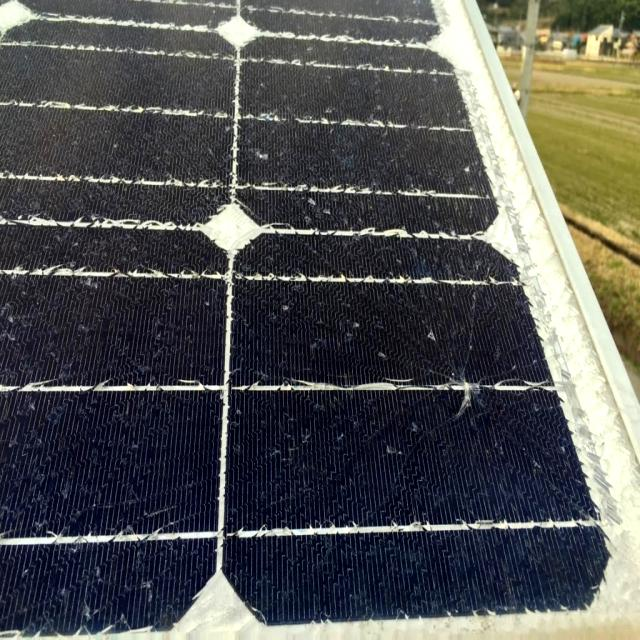hotspot: (402, 324, 497, 454)
